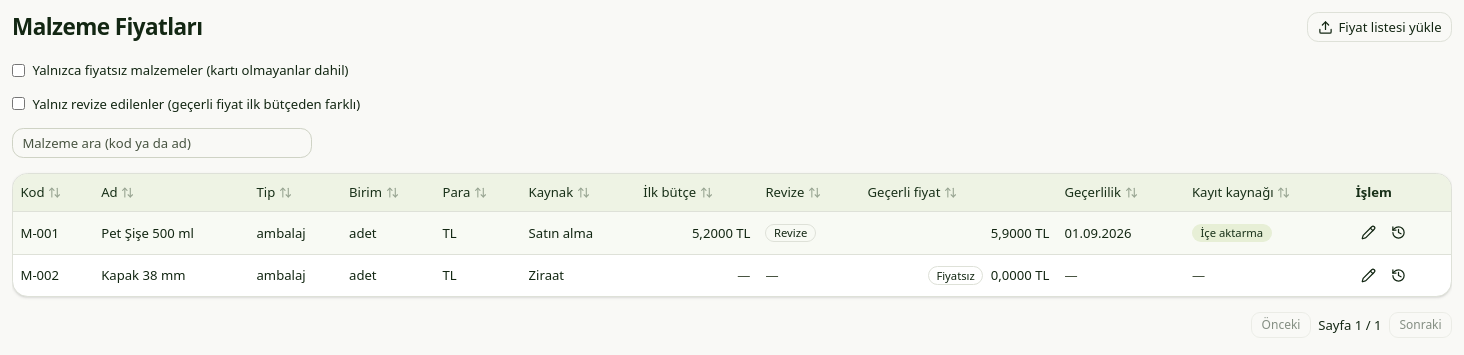
Scenario: MalzemeFiyatlari › fiyatsız filtresi kart_yok satırını 'Kart yok' rozetiyle gösterir
The image size is (1464, 355).
Expected: the text "Pet Şişe 500 ml" is shown, [94,212,249,254]
Step 1. Click the checkbox labelled "Yalnızca fiyatsız malzemeler (kartı olmayanlar dahil)" → (18, 70), box [12,64,25,77]
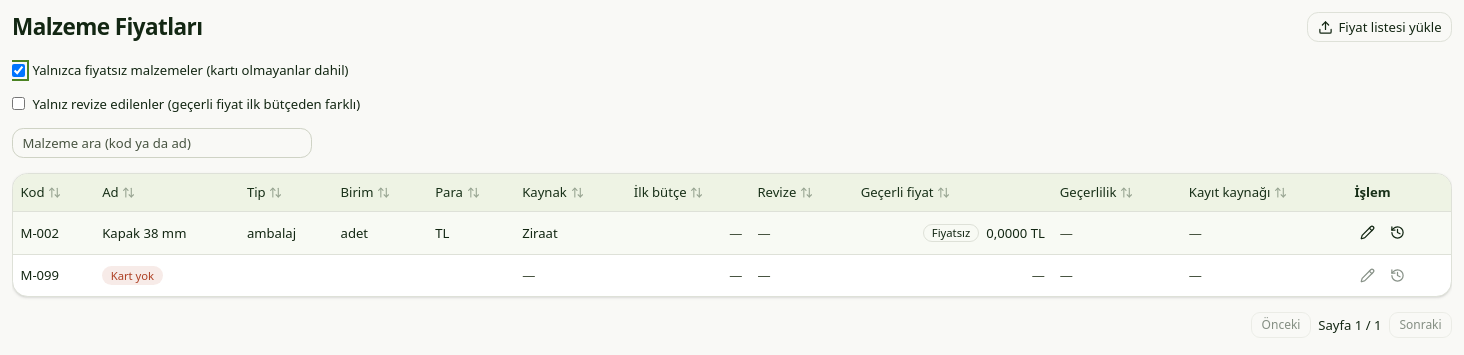
Result: the text "Kart yok" is shown at [102,266,163,285]
Result: the button named "Fiyat değiştir M-099" is disabled at [1354,262,1381,288]
